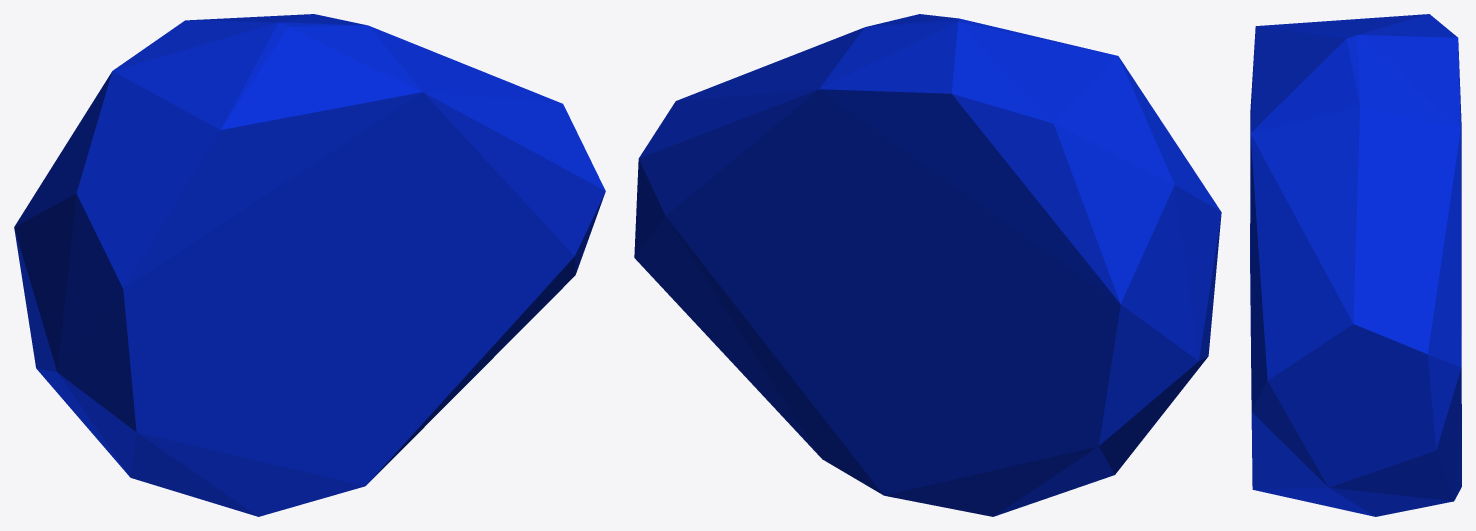
The model's file is toe-B-rod_convex_piece_002.obj.
The picture shows the model from 3 angles, left to right: view 1: azimuth 30°, elevation 25°; view 2: azimuth 150°, elevation 25°; view 3: azimuth 270°, elevation 25°; orthographic projection.
Bounding box in the file's own units: 0.0189 × 0.016 × 0.00669.
